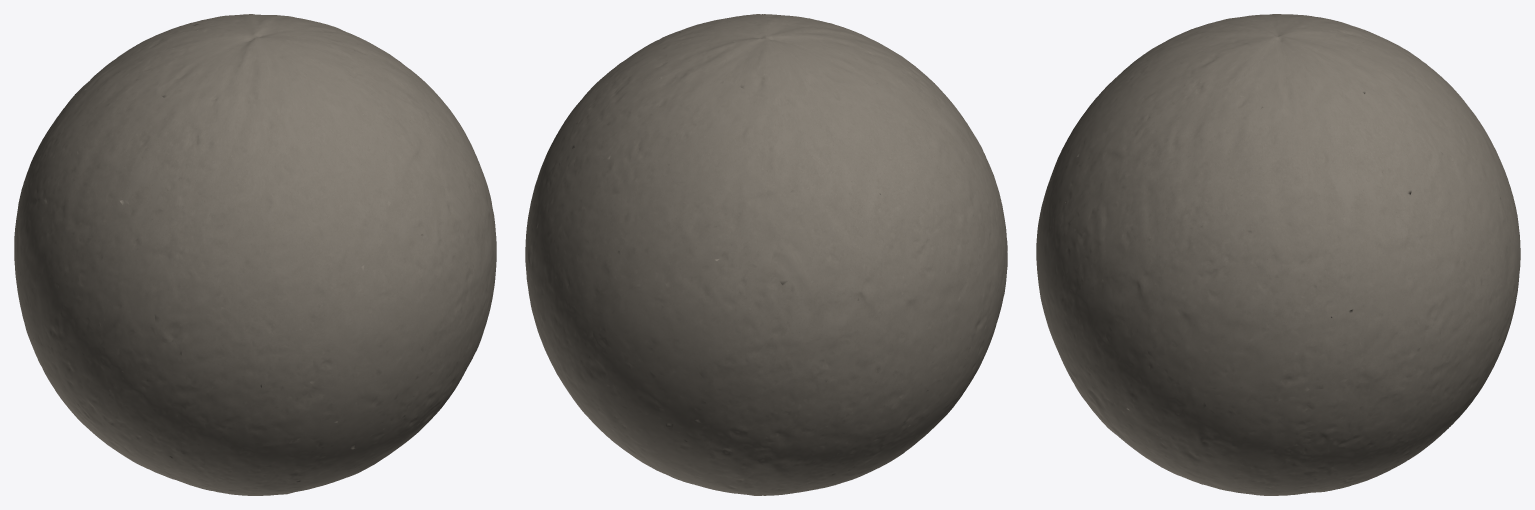
File: moon_02_1k.gltf
The picture shows the model from 3 angles, left to right: view 1: azimuth 30°, elevation 25°; view 2: azimuth 150°, elevation 25°; view 3: azimuth 270°, elevation 25°; orthographic projection.
Parts seen in each view (by area): view 1: sphere_gltf; view 2: sphere_gltf; view 3: sphere_gltf.
Part boxes in pixels (<box>): sphere_gltf: <box>14,14,496,495</box>; sphere_gltf: <box>525,14,1007,495</box>; sphere_gltf: <box>1036,14,1520,495</box>.
Bounding box in the file's own units: 3.11 × 3.11 × 3.11.
Materials: 1 (1 with a texture image).
